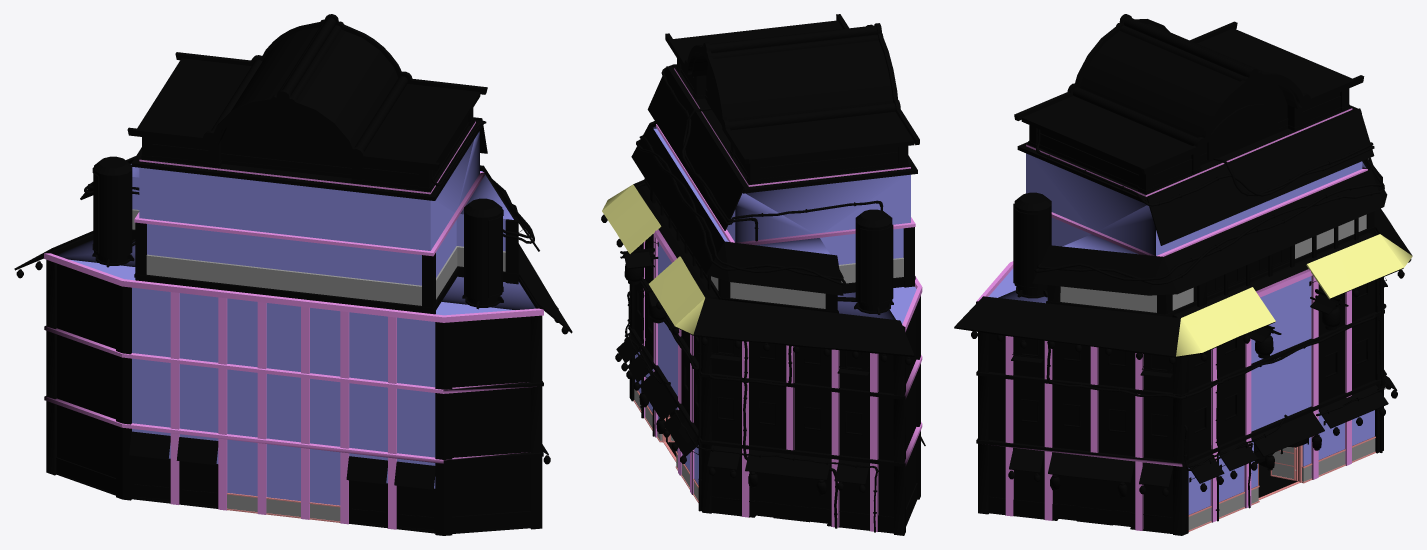
File: SM_ENV_LKNVLD_Shop_Structure_Lod2.gltf
3 views of the same model, side by side, from view 1: azimuth 30°, elevation 25°; view 2: azimuth 150°, elevation 25°; view 3: azimuth 270°, elevation 25° (orthographic). The views are drawn at different scales.
Parts seen in each view (by area): view 1: SM_ENV_LKNVLD_Shop_Structure_Lod2; view 2: SM_ENV_LKNVLD_Shop_Structure_Lod2; view 3: SM_ENV_LKNVLD_Shop_Structure_Lod2.
Boxes of the visible parts, x1,y1,x2,y2 form: SM_ENV_LKNVLD_Shop_Structure_Lod2: (14, 14, 572, 535); SM_ENV_LKNVLD_Shop_Structure_Lod2: (601, 14, 925, 535); SM_ENV_LKNVLD_Shop_Structure_Lod2: (954, 14, 1412, 535).
Size of the model in its own units: 35.83 by 35.54 by 35.83.
